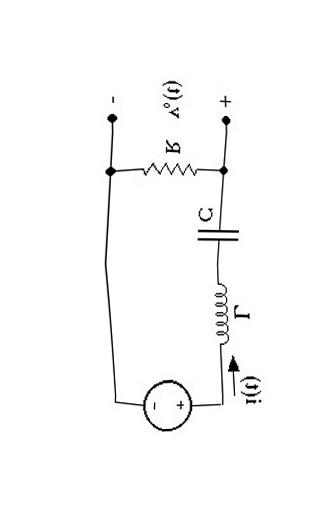Battery: (125, 366, 206, 448)
